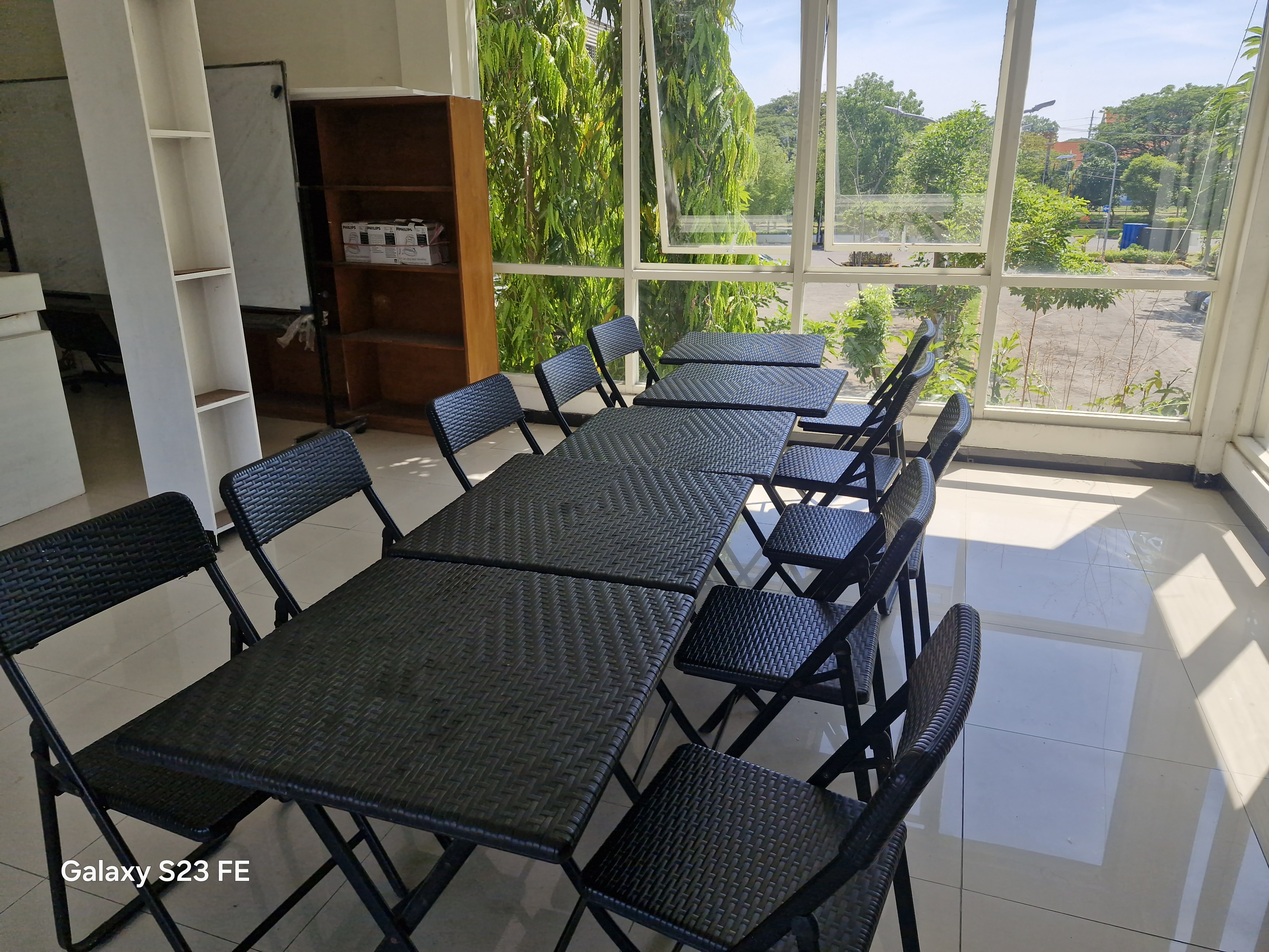chair: (581, 605, 980, 951), (0, 493, 267, 951), (674, 459, 934, 732), (755, 393, 971, 595), (220, 430, 401, 624), (773, 322, 934, 505), (427, 374, 543, 490), (534, 345, 615, 436), (586, 317, 659, 385)
dining table: (117, 558, 696, 951), (389, 455, 753, 593), (634, 364, 847, 417), (660, 332, 825, 367)
floor-other-merged: (263, 419, 1268, 951), (15, 528, 383, 951), (0, 448, 208, 551), (0, 667, 63, 951), (56, 793, 137, 942), (327, 808, 399, 904), (822, 717, 902, 803), (366, 819, 443, 891), (457, 426, 535, 487), (92, 907, 173, 951), (869, 889, 903, 951), (248, 436, 316, 463), (761, 565, 822, 595), (812, 578, 861, 604)
shelf: (57, 0, 251, 533), (294, 95, 493, 424)
wall-other-merged: (178, 0, 480, 314), (0, 0, 148, 314)
window-other: (480, 0, 1268, 447)
